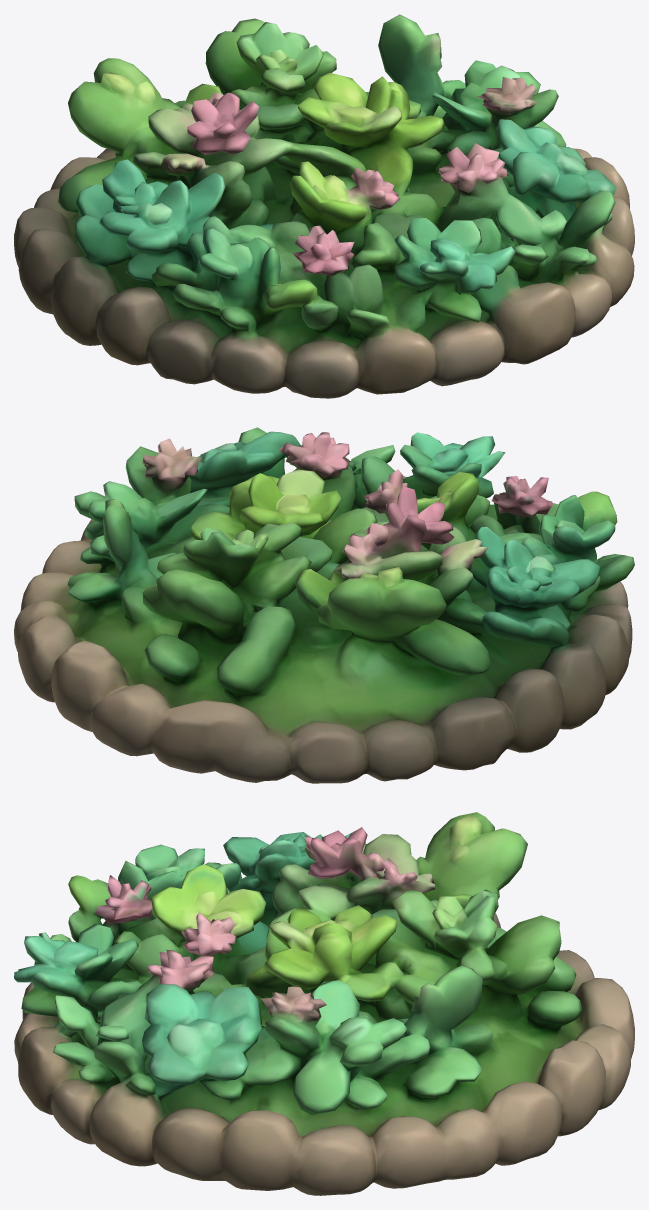
File: flower-garden.glb
3 renders of one model, top to bottom at view 1: azimuth 30°, elevation 25°; view 2: azimuth 150°, elevation 25°; view 3: azimuth 270°, elevation 25°, orthographic.
Visible parts, largest first — view 1: tripo_node_e8b10cb7-1b89-4bf0-8a86-7245598e1abd; view 2: tripo_node_e8b10cb7-1b89-4bf0-8a86-7245598e1abd; view 3: tripo_node_e8b10cb7-1b89-4bf0-8a86-7245598e1abd.
Part boxes in pixels (x1,y1,x2,y2): tripo_node_e8b10cb7-1b89-4bf0-8a86-7245598e1abd: (14, 14, 634, 398); tripo_node_e8b10cb7-1b89-4bf0-8a86-7245598e1abd: (14, 427, 634, 783); tripo_node_e8b10cb7-1b89-4bf0-8a86-7245598e1abd: (14, 812, 634, 1195).
Size of the model in its own units: 1 by 0.3592 by 0.9879.
Materials: 1 (1 with a texture image).
